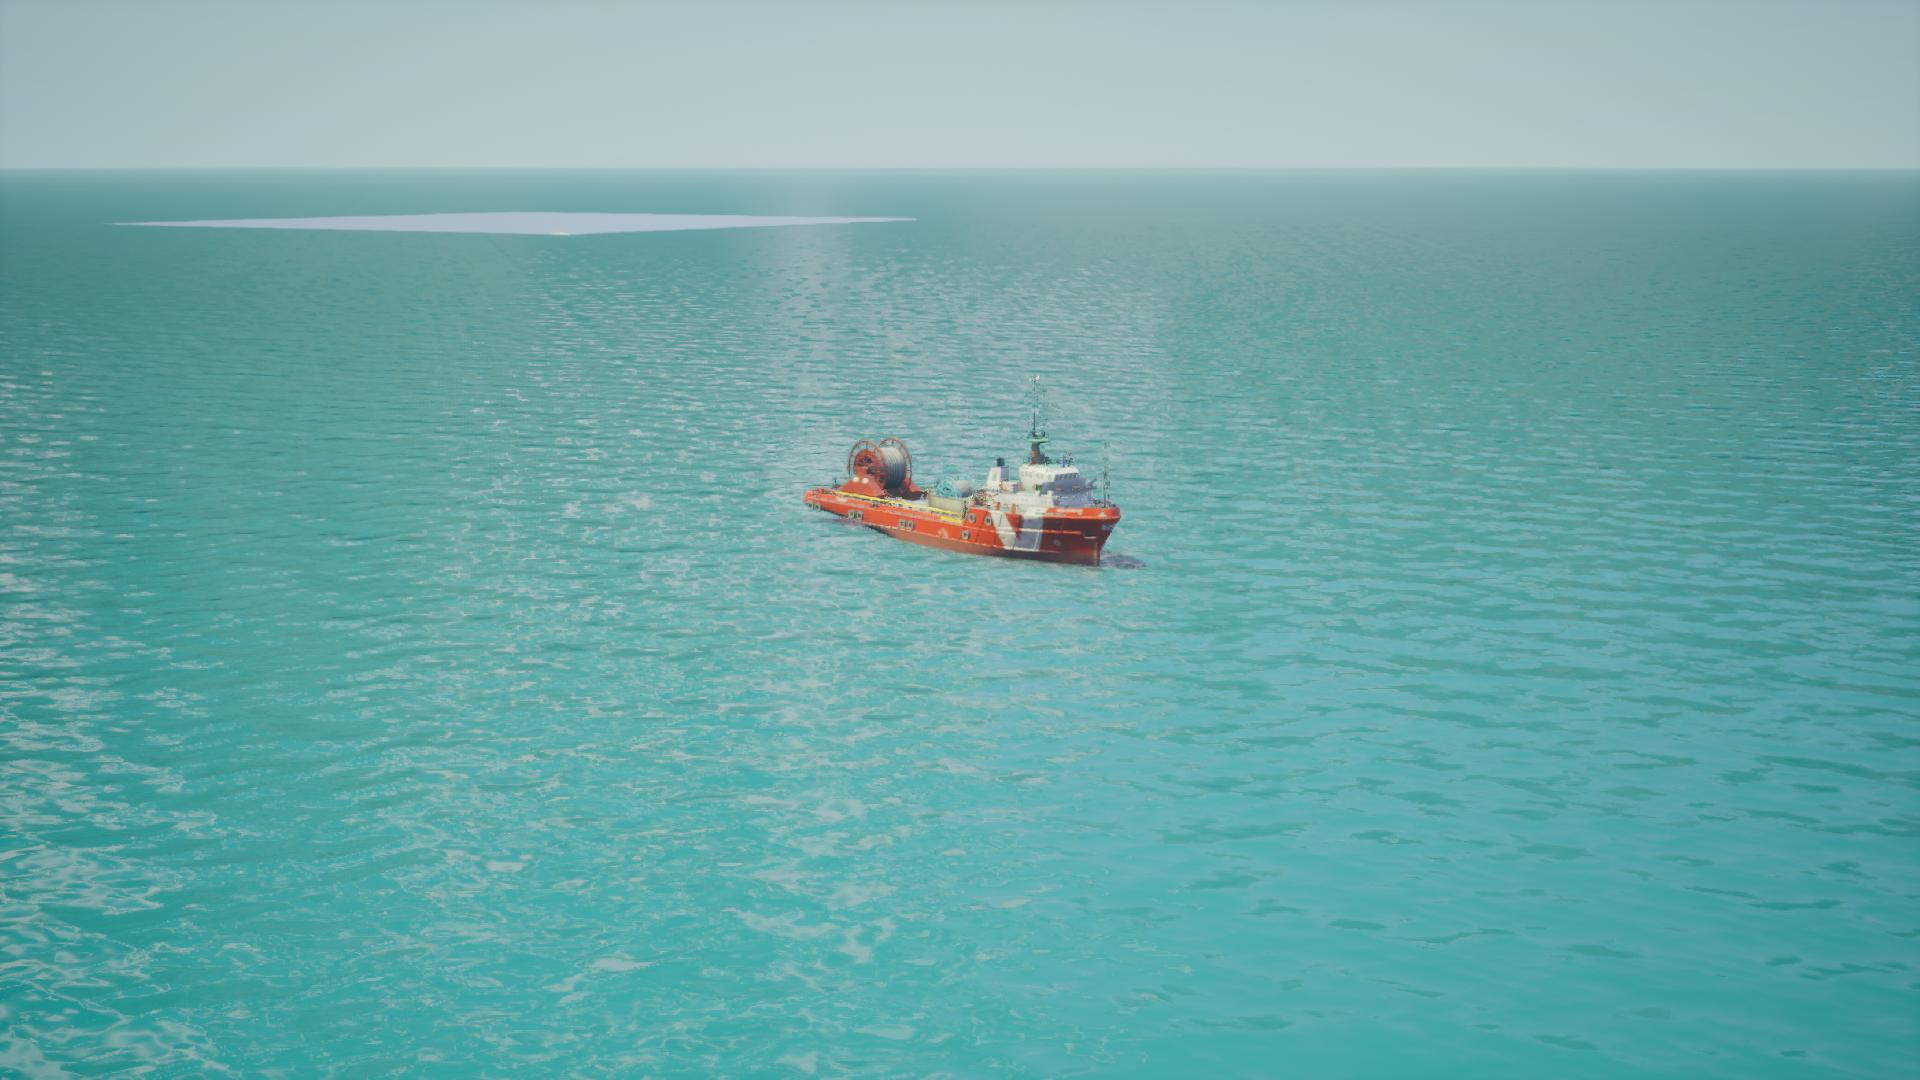Tug Boat: (803, 425, 1131, 568)
